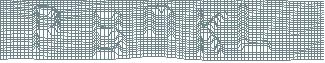B: (90, 8, 127, 60)
K: (194, 6, 227, 58)
L: (236, 2, 272, 53)
P: (30, 5, 63, 55)
n: (142, 4, 176, 42)
